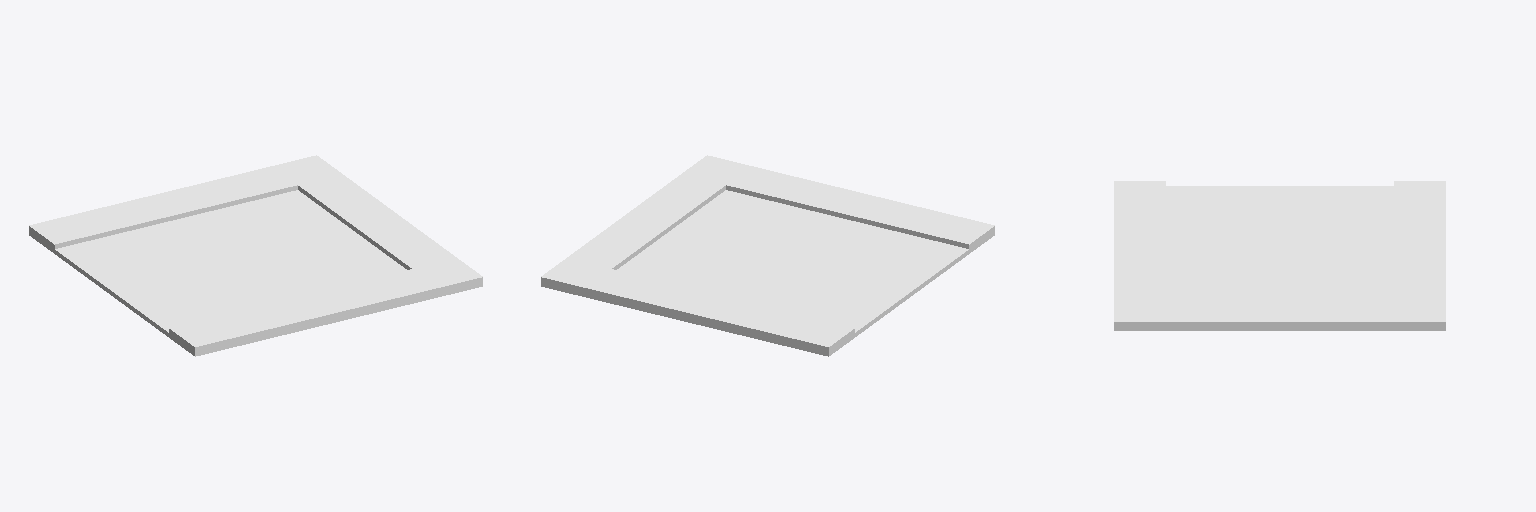
File: RoadEnd180.obj
3 views of the same model, side by side, from view 1: azimuth 30°, elevation 25°; view 2: azimuth 150°, elevation 25°; view 3: azimuth 270°, elevation 25° (orthographic).
Parts seen in each view (by area): view 1: object 1; view 2: object 1; view 3: object 1.
Part boxes in pixels (x1,y1,x2,y2): object 1: (29, 155, 482, 356); object 1: (541, 155, 994, 356); object 1: (1114, 181, 1445, 330).
Size of the model in its own units: 6.4 by 0.2 by 6.4.